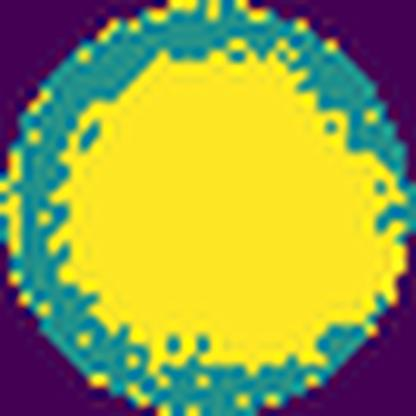Center: (68, 51, 404, 370)
